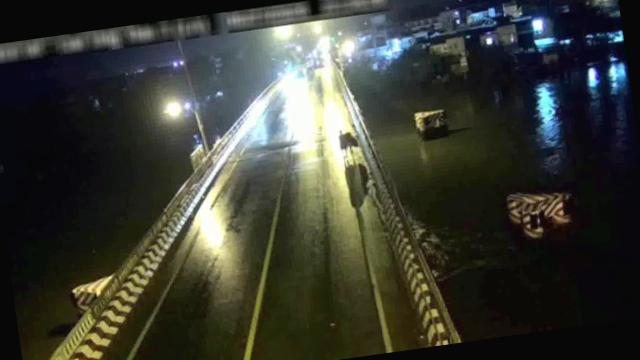Bike: (336, 127, 358, 159)
